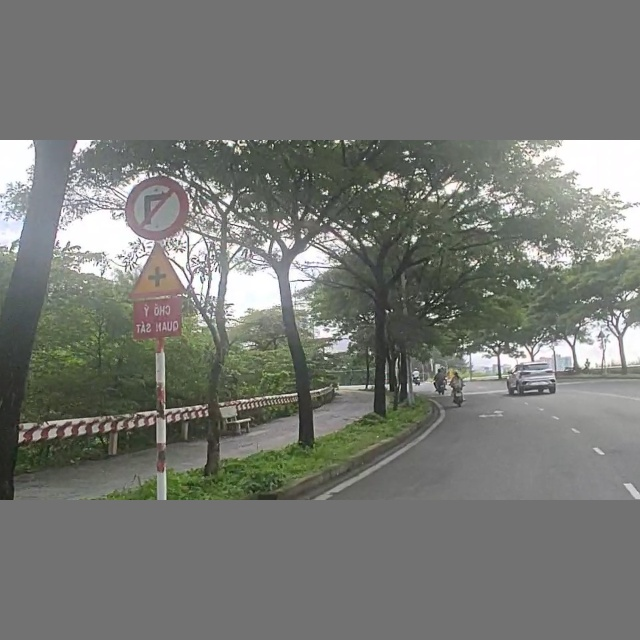P.123a: (114, 173, 191, 240)
W.205a: (112, 242, 195, 300)
